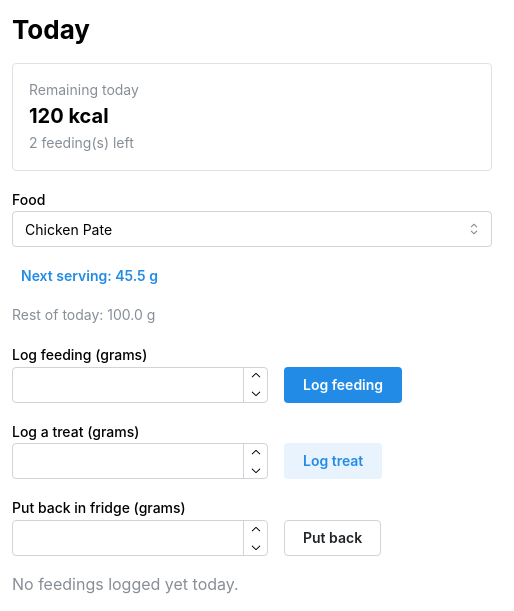
TodayScreen › updates the suggested grams when a different food is selected
The width and height of the screenshot is (514, 611).
Expected: the button "Next serving: 45.5 g" is shown, [21,264,158,288]
Click the field labelled "Food".
click(252, 230)  # box [12,212,492,248]
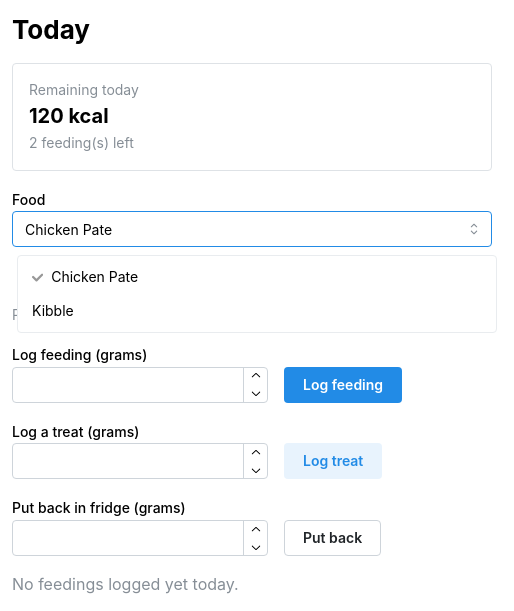
Click the option "Kibble".
click(53, 311)  # box [32,302,74,319]
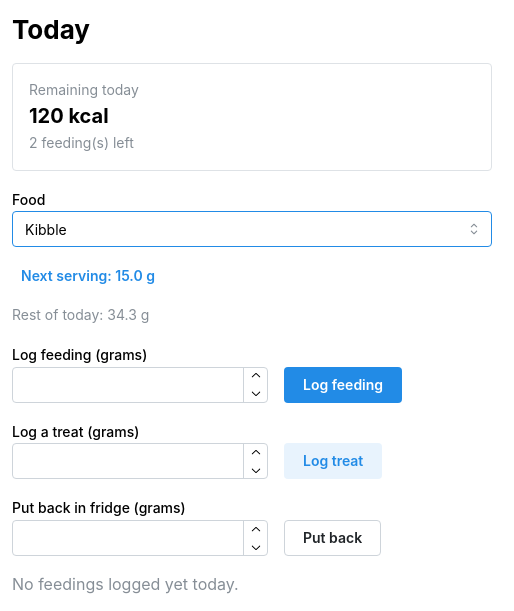
Expected: the button "Next serving: 15.0 g" is shown, [21,264,155,288]
